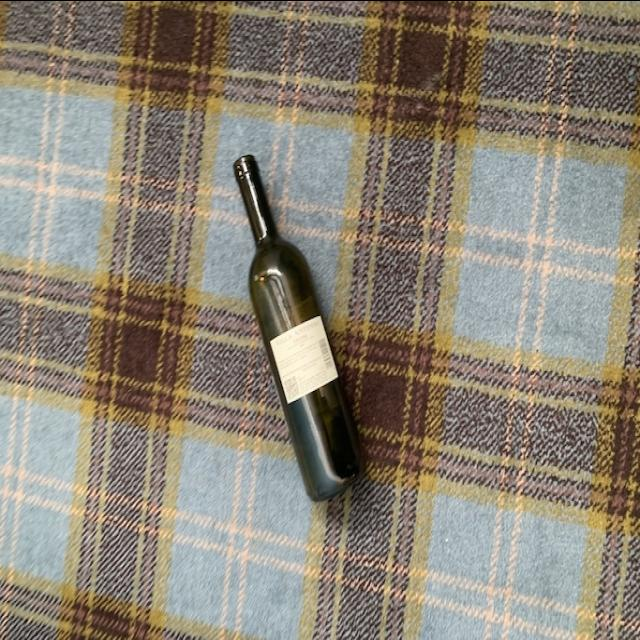Glass Bottle: (225, 153, 368, 505)
